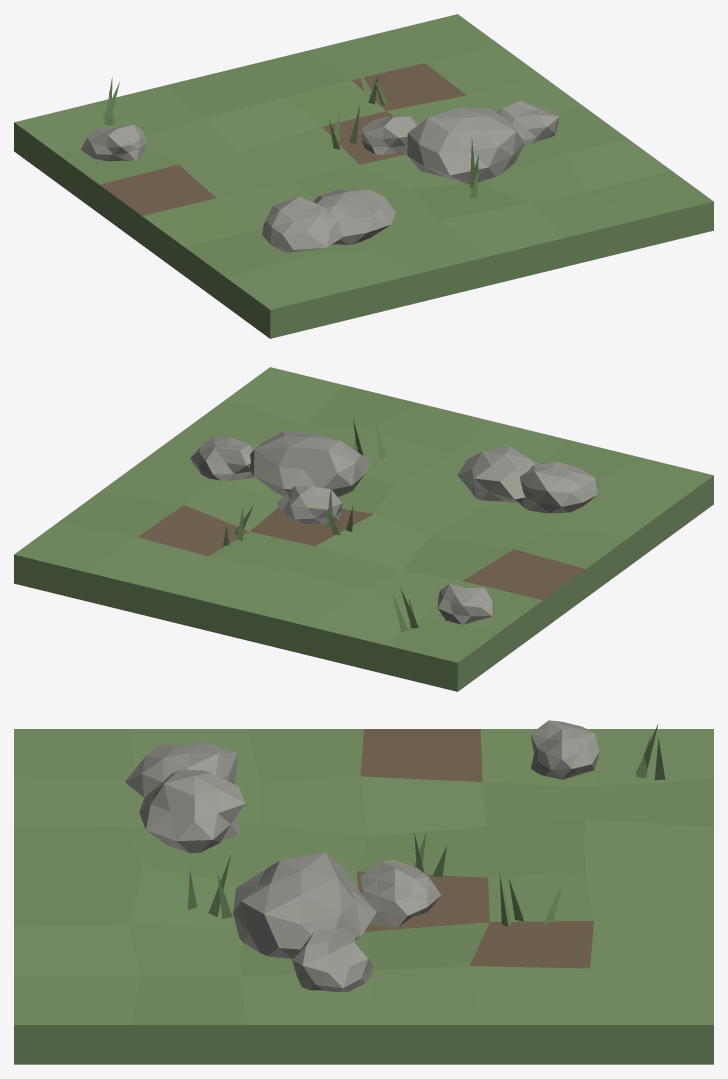
The model's file is ground_grass_rocky.glb.
The picture shows the model from 3 angles, top to bottom: view 1: azimuth 30°, elevation 25°; view 2: azimuth 150°, elevation 25°; view 3: azimuth 270°, elevation 25°; orthographic projection. The views are drawn at different scales.
Parts seen in each view (by area): view 1: ground_grass_rocky; view 2: ground_grass_rocky; view 3: ground_grass_rocky.
Part boxes in pixels (<box>): ground_grass_rocky: <box>14,14,713,338</box>; ground_grass_rocky: <box>14,367,713,691</box>; ground_grass_rocky: <box>14,720,713,1064</box>.
Bounding box in the file's own units: 4 × 0.6533 × 4.
